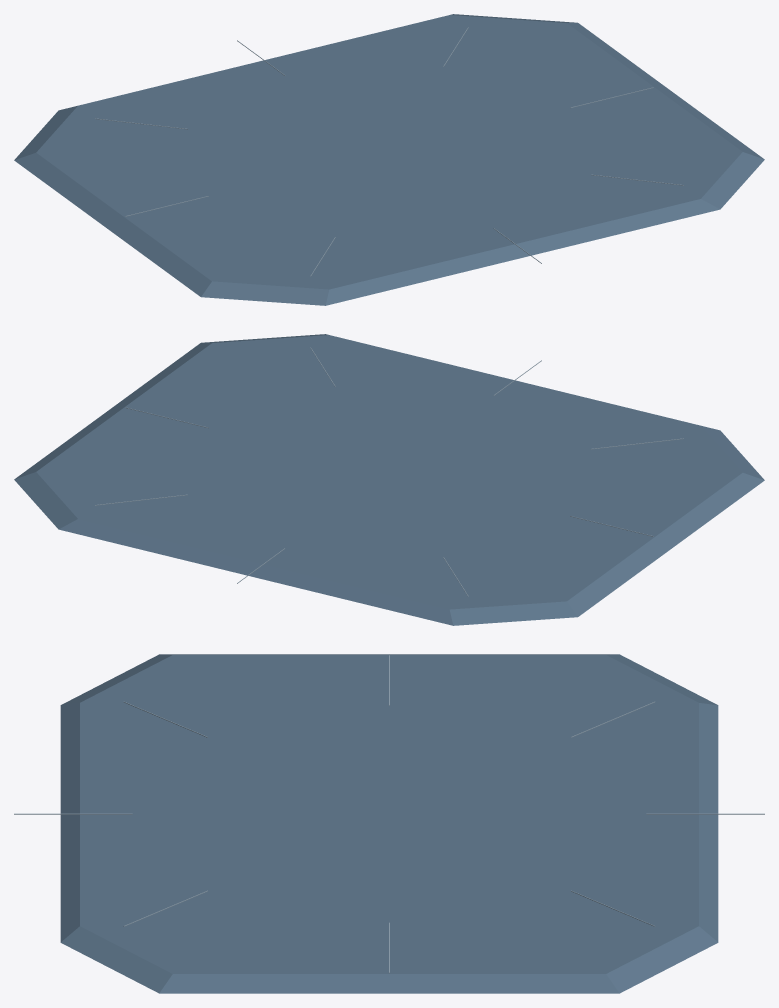
Rendered from iNXT_Tower_Animated.glb.
3 renders of one model, top to bottom at view 1: azimuth 30°, elevation 25°; view 2: azimuth 150°, elevation 25°; view 3: azimuth 270°, elevation 25°, orthographic. The views are drawn at different scales.
Visible parts, largest first — view 1: Plaza | chamfered perimeter; view 2: Plaza | chamfered perimeter; view 3: Plaza | chamfered perimeter.
Boxes of the visible parts, x1=… form: Plaza | chamfered perimeter: x1=14, y1=14, x2=764, y2=305; Plaza | chamfered perimeter: x1=14, y1=334, x2=764, y2=625; Plaza | chamfered perimeter: x1=60, y1=654, x2=718, y2=993.
Size of what is drawn, in the model's own units: 40.6 by 0.56 by 38.
